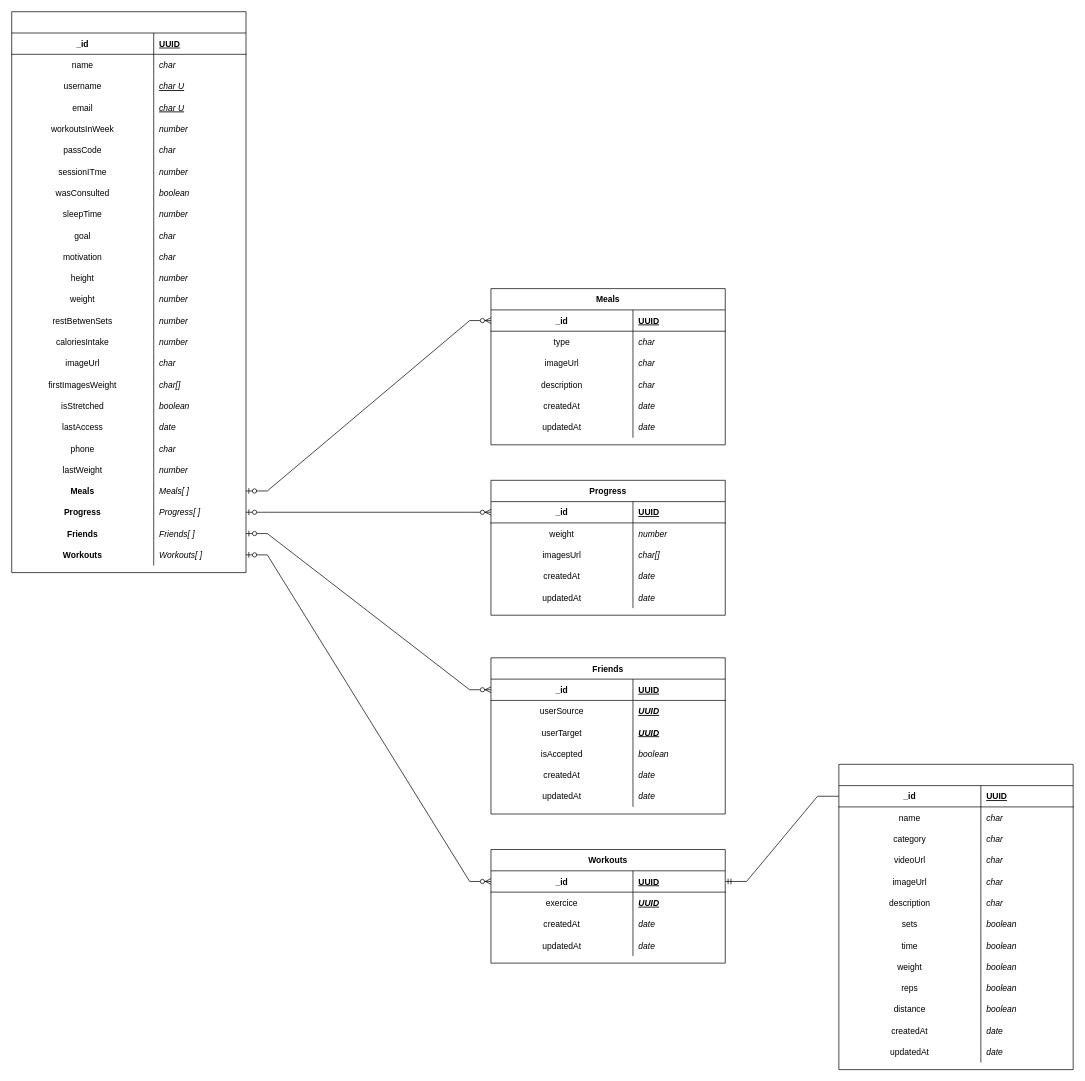
Some shapes in this 1085 by 1081 pixel diagram are drawn without their labels. The box of each missing label's shape, as (x1, y1, x2, y2) in pixels:
Customer: (11, 11, 246, 573)
Exercises: (838, 764, 1073, 1070)
